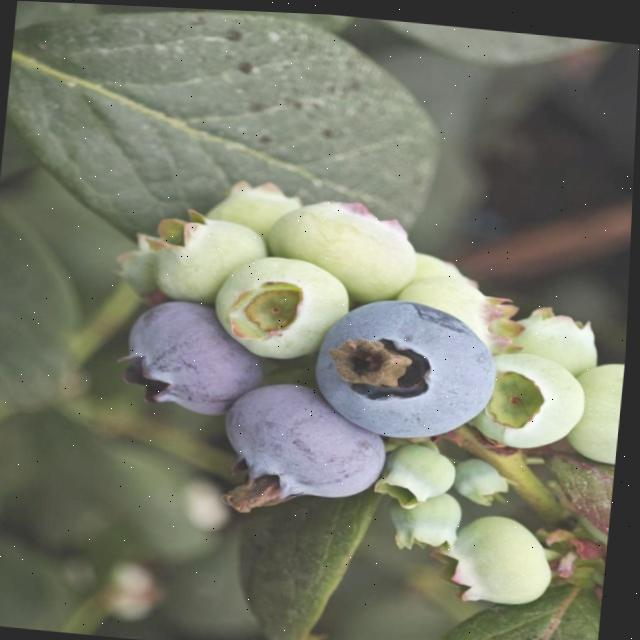RipeBlueBerry: (316, 297, 506, 450), (207, 383, 400, 519)
UnripeBlueBerry: (118, 302, 263, 432), (207, 246, 351, 370), (278, 187, 435, 300), (472, 345, 592, 450), (145, 213, 273, 307), (446, 507, 558, 609)
